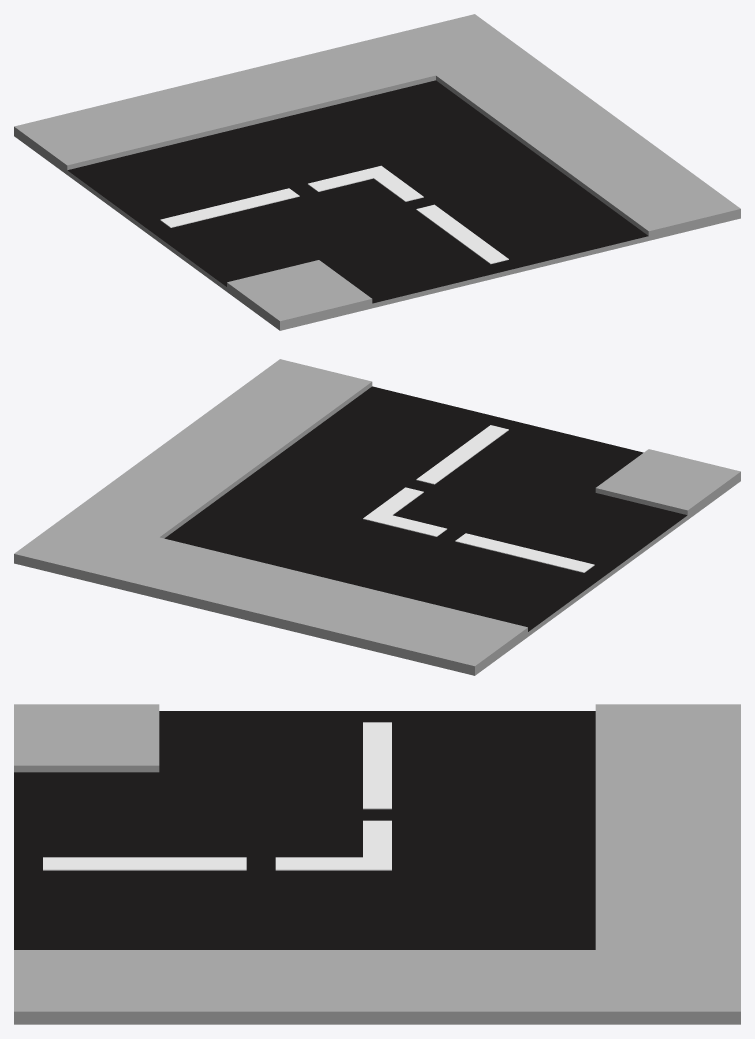
File: Env_Road_Cornor_01.fbx
The picture shows the model from 3 angles, top to bottom: view 1: azimuth 30°, elevation 25°; view 2: azimuth 150°, elevation 25°; view 3: azimuth 270°, elevation 25°; orthographic projection. The views are drawn at different scales.
Visible parts, largest first — view 1: Env_Road_Cornor_01; view 2: Env_Road_Cornor_01; view 3: Env_Road_Cornor_01.
Part boxes in pixels (box(x1,y1,x2,y2)): Env_Road_Cornor_01: box(14, 14, 740, 330); Env_Road_Cornor_01: box(14, 359, 740, 675); Env_Road_Cornor_01: box(14, 704, 740, 1024).
Bounding box in the file's own units: 1000 × 20 × 1000.
